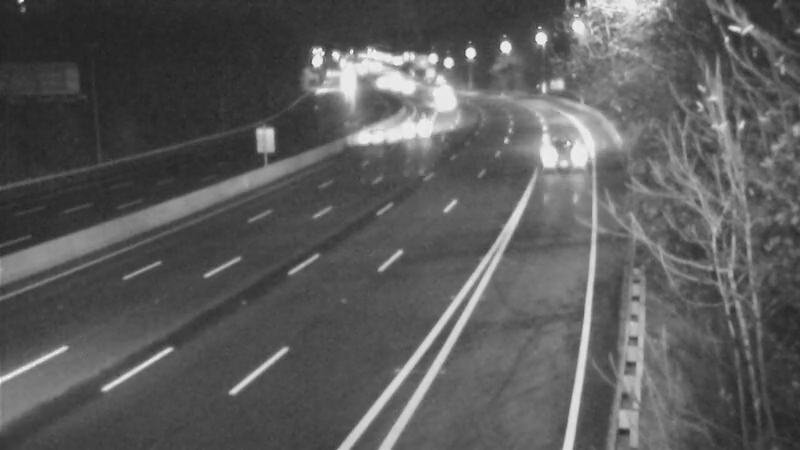vehicle: (522, 114, 602, 194), (416, 66, 466, 116), (424, 77, 474, 127), (394, 105, 444, 155), (346, 110, 396, 160)
